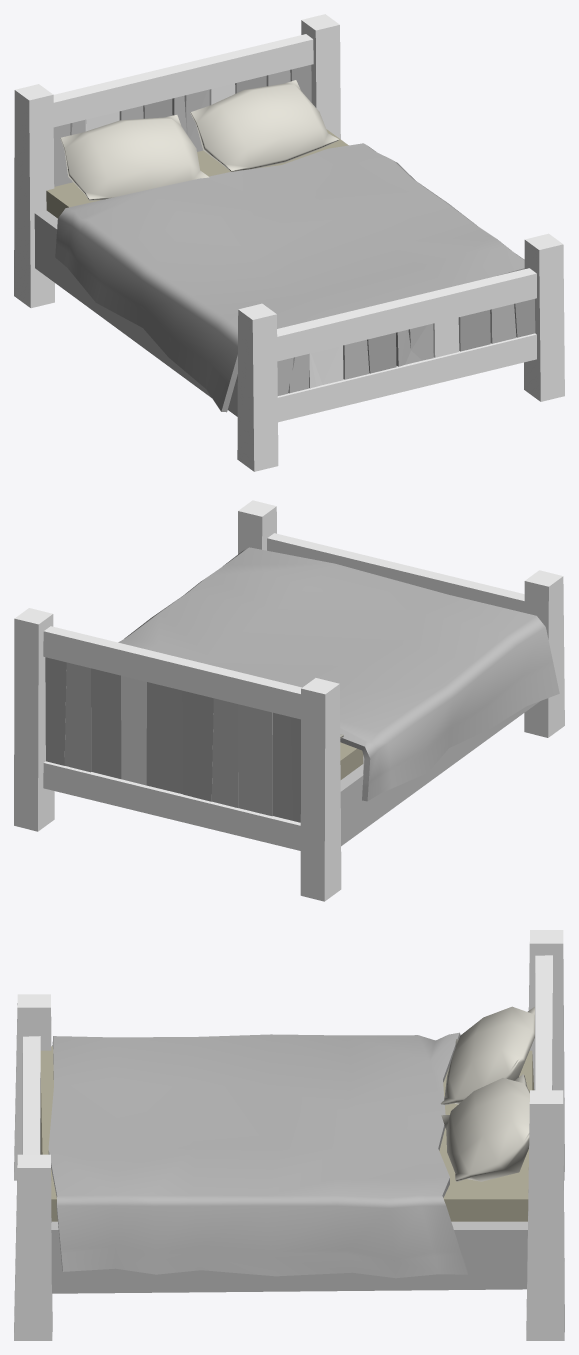
Rendered from PT_Double_Bed_01.fbx.
The picture shows the model from 3 angles, top to bottom: view 1: azimuth 30°, elevation 25°; view 2: azimuth 150°, elevation 25°; view 3: azimuth 270°, elevation 25°; orthographic projection. The views are drawn at different scales.
Visible parts, largest first — view 1: PT_Double_Bed_01_BedFrame, PT_Double_Bed_01_Blanket, PT_Double_Bed_01; view 2: PT_Double_Bed_01_BedFrame, PT_Double_Bed_01_Blanket; view 3: PT_Double_Bed_01_Blanket, PT_Double_Bed_01_BedFrame, PT_Double_Bed_01.
Boxes of the visible parts, x1=… form: PT_Double_Bed_01_BedFrame: x1=14, y1=14, x2=564, y2=471; PT_Double_Bed_01_Blanket: x1=55, y1=143, x2=524, y2=412; PT_Double_Bed_01: x1=60, y1=80, x2=338, y2=200; PT_Double_Bed_01_BedFrame: x1=14, y1=500, x2=564, y2=901; PT_Double_Bed_01_Blanket: x1=118, y1=547, x2=559, y2=801; PT_Double_Bed_01_Blanket: x1=48, y1=1032, x2=467, y2=1278; PT_Double_Bed_01_BedFrame: x1=14, y1=930, x2=564, y2=1340; PT_Double_Bed_01: x1=440, y1=1006, x2=534, y2=1181.
Bounding box in the file's own units: 210 × 124 × 261.
Materials: 1 (1 with a texture image).
